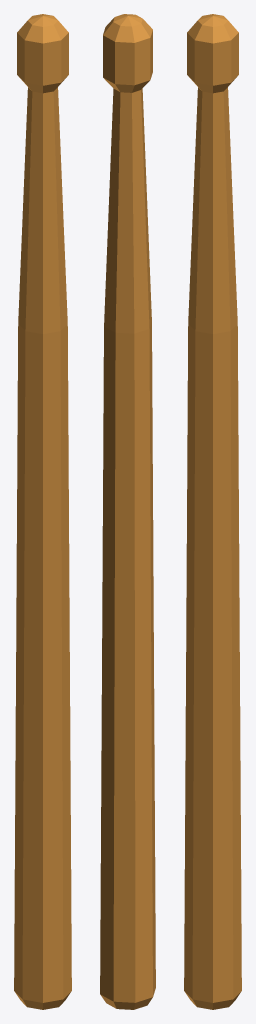
The model's file is stick.obj.
3 views of the same model, side by side, from view 1: azimuth 90°, elevation 25°; view 2: azimuth 150°, elevation 25°; view 3: azimuth 270°, elevation 25° (orthographic).
Parts seen in each view (by area): view 1: Drumstick_Circle.007; view 2: Drumstick_Circle.007; view 3: Drumstick_Circle.007.
Part boxes in pixels (x1,y1,x2,y2): Drumstick_Circle.007: (14,14,71,1009); Drumstick_Circle.007: (100,14,155,1009); Drumstick_Circle.007: (184,14,241,1009).
Size of the model in its own units: 0.8108 by 15.23 by 0.8108.
